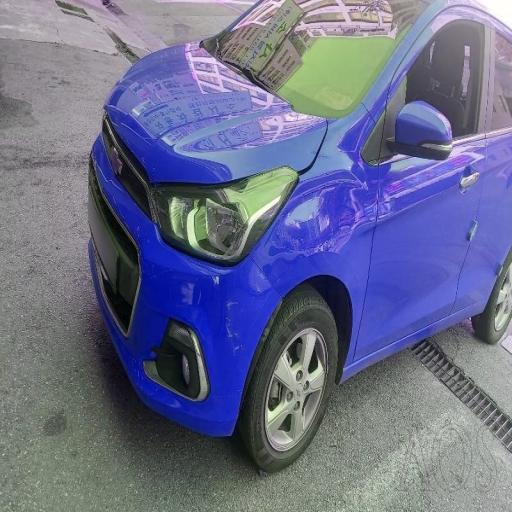dent: (96, 46, 293, 259)
scratch: (299, 154, 399, 268)
